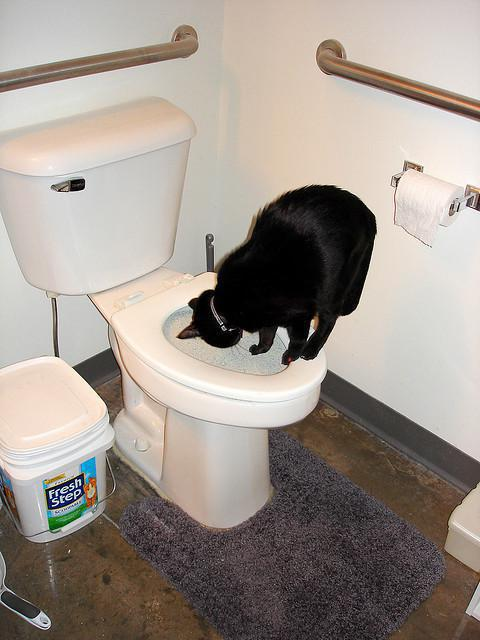Otro Obstaculo: (177, 180, 386, 370)
Sanitario: (0, 95, 330, 542)
